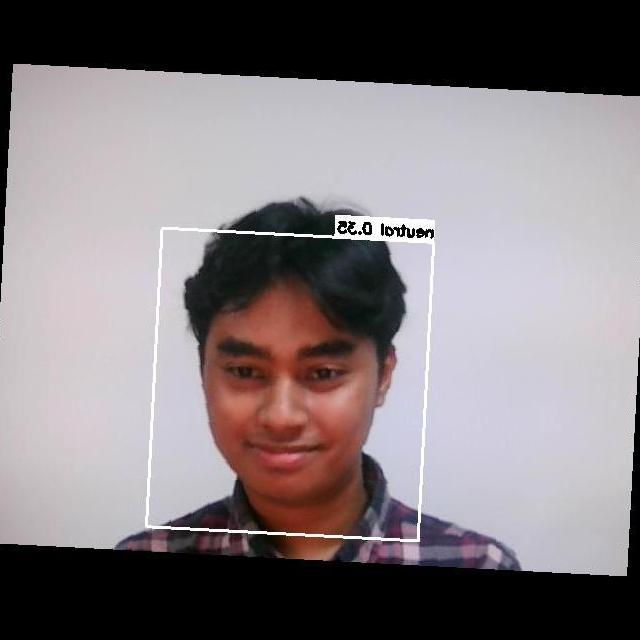Happy: (188, 305, 369, 490)
